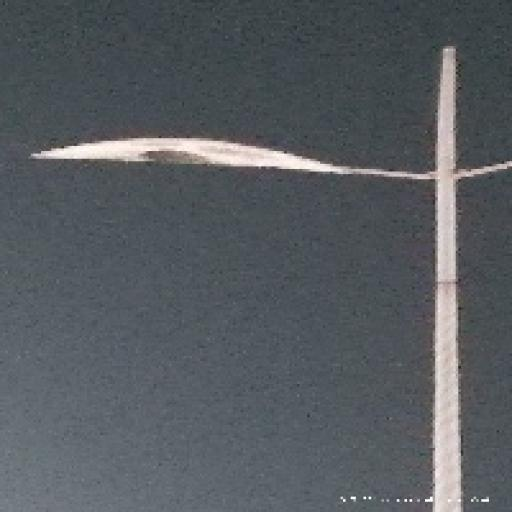Not Working: (2, 106, 380, 228)
